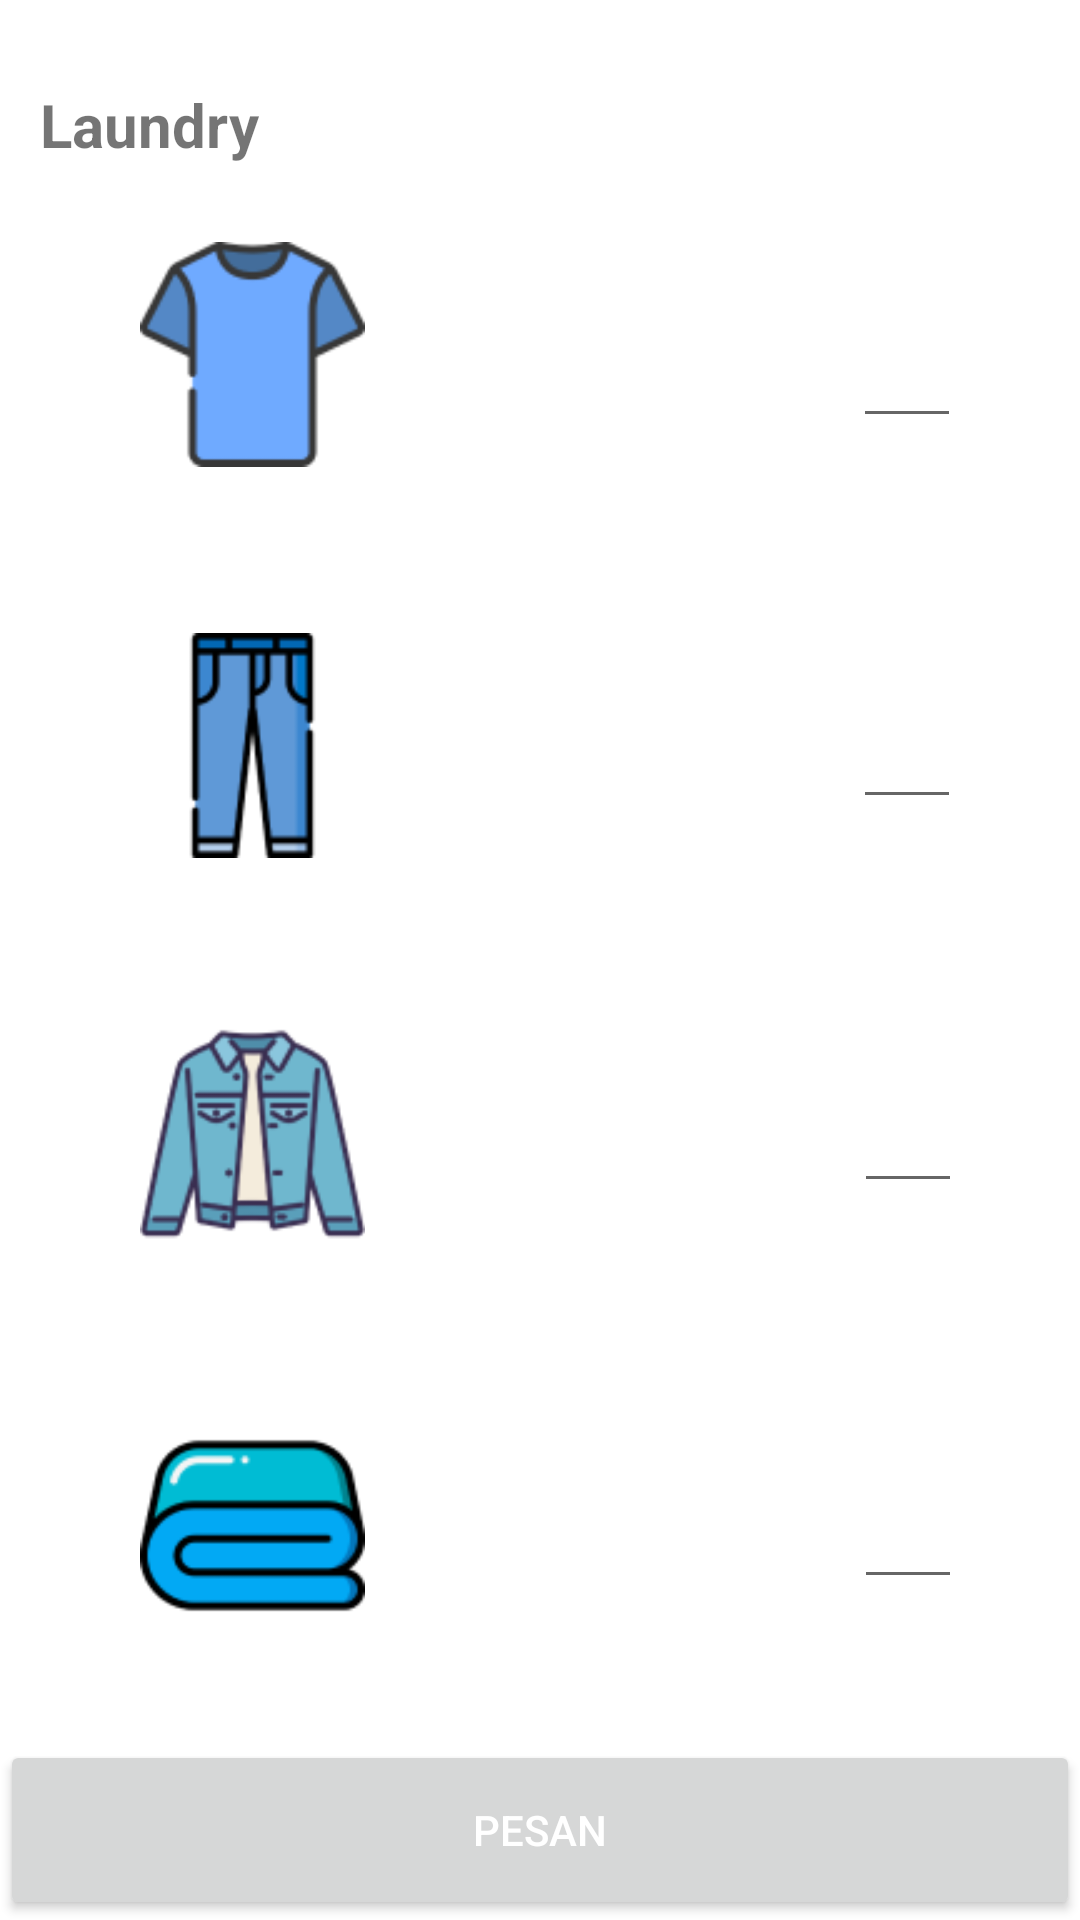

Screen size 1080x1920. Icon name, then its center in pixels as (x=x, y=y):
jaket: (x=252, y=1134)
